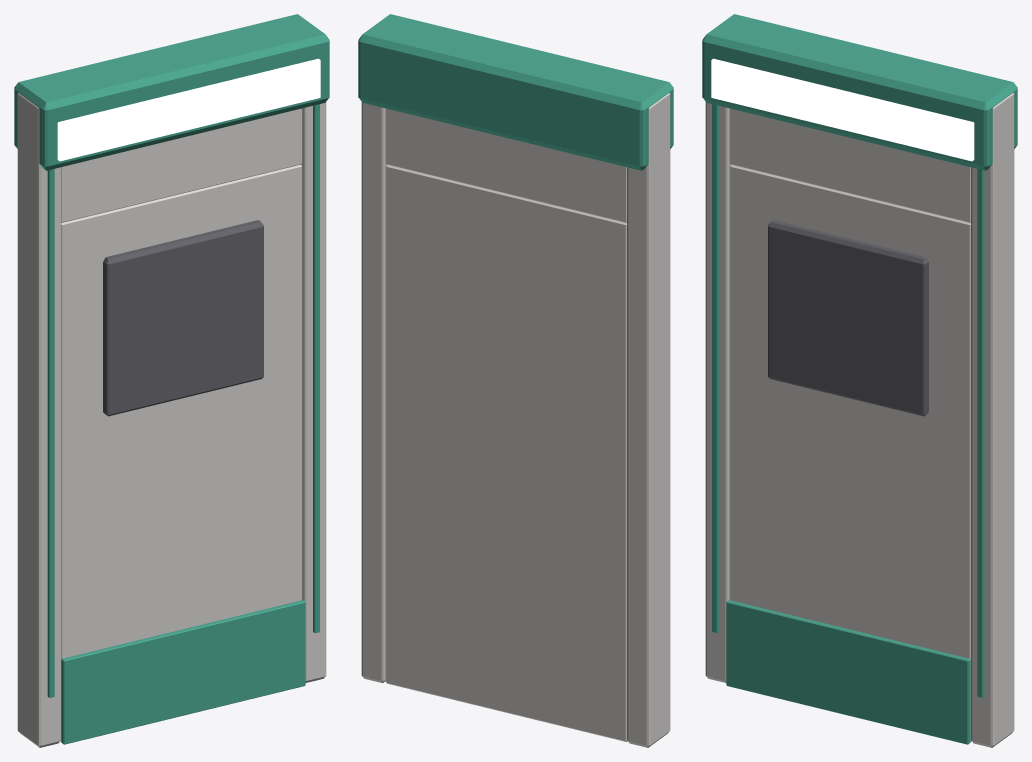
File: petrol-station-and-forecourt-shop-shop-facade-bay-soli-93616857__33960.glb
The picture shows the model from 3 angles, left to right: view 1: azimuth 30°, elevation 25°; view 2: azimuth 150°, elevation 25°; view 3: azimuth 330°, elevation 25°; orthographic projection.
Visible parts, largest first — view 1: shop-facade-bay-solid; view 2: shop-facade-bay-solid; view 3: shop-facade-bay-solid.
Part boxes in pixels (x1,y1,x2,y2): shop-facade-bay-solid: (14,14,329,747); shop-facade-bay-solid: (358,14,673,747); shop-facade-bay-solid: (702,14,1017,747).
Size of the model in its own units: 1.5 by 3.22 by 0.31.
